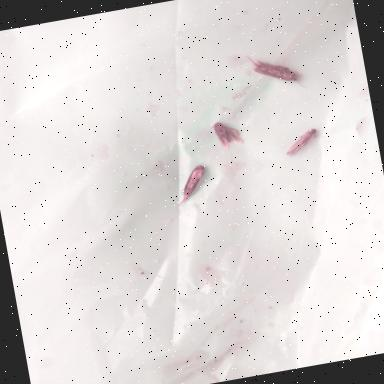pbw: (246, 46, 308, 98), (171, 162, 212, 207), (282, 128, 321, 158), (210, 118, 244, 152)
